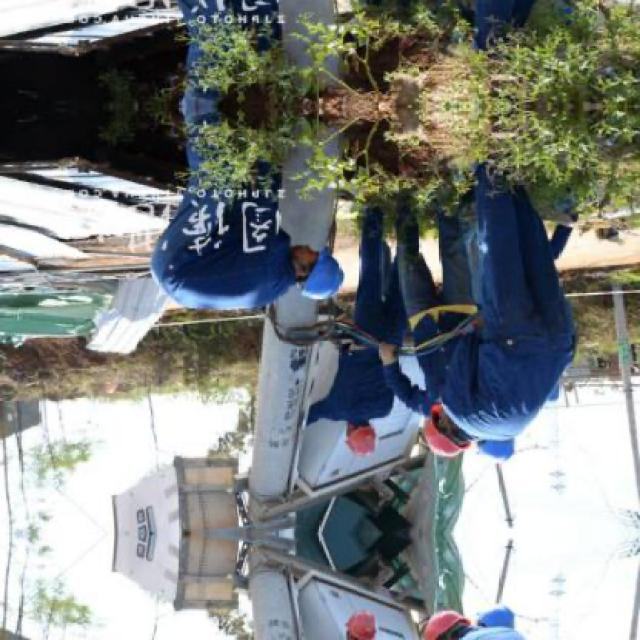con casco: (406, 376, 508, 499), (272, 214, 372, 333), (329, 400, 391, 502)
